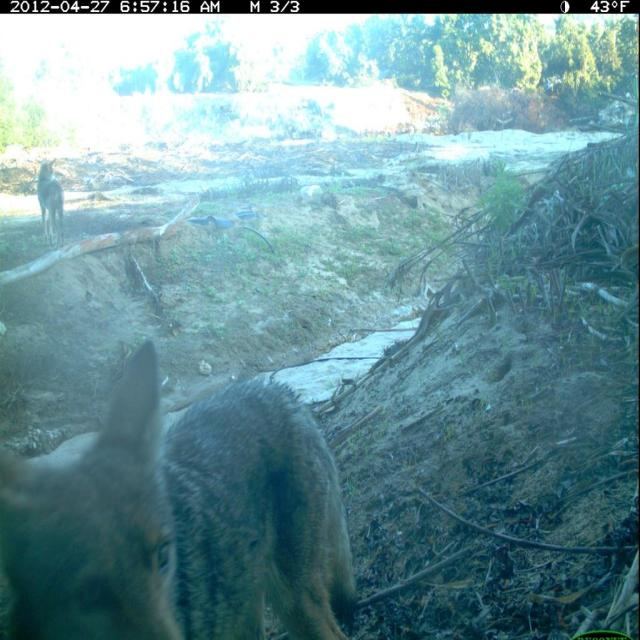coyote: (2, 330, 364, 640), (32, 158, 78, 251)
